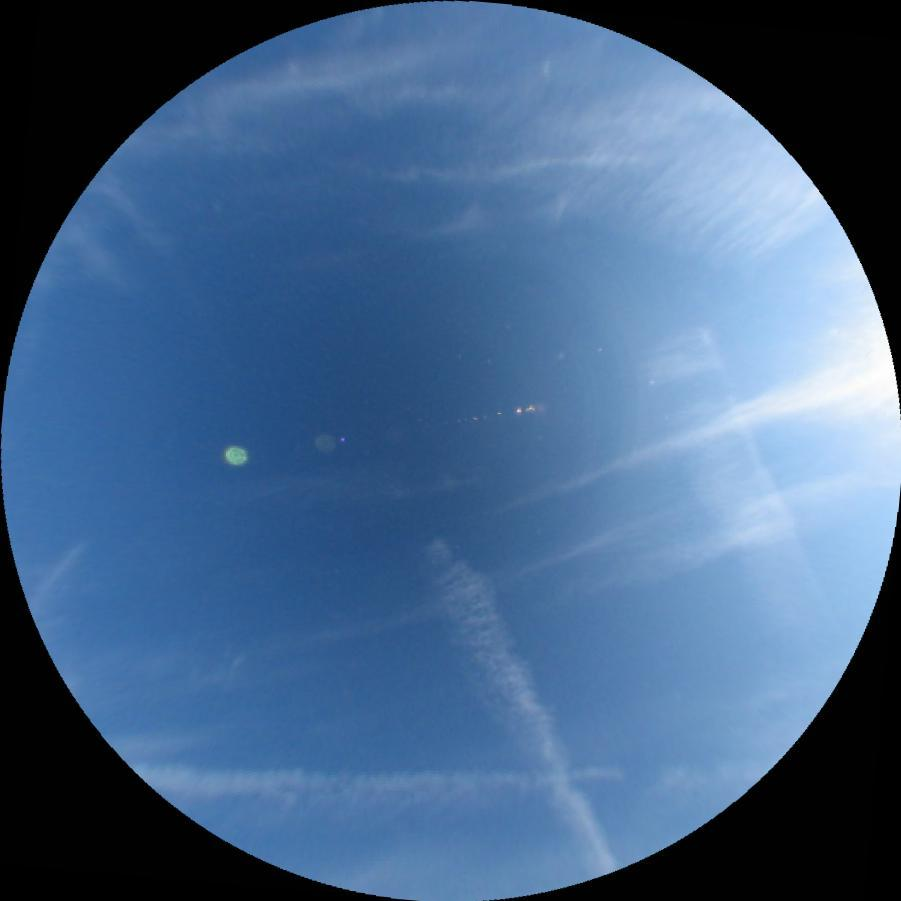contrail veryold: (628, 314, 853, 673), (408, 520, 623, 892), (128, 756, 779, 819)
